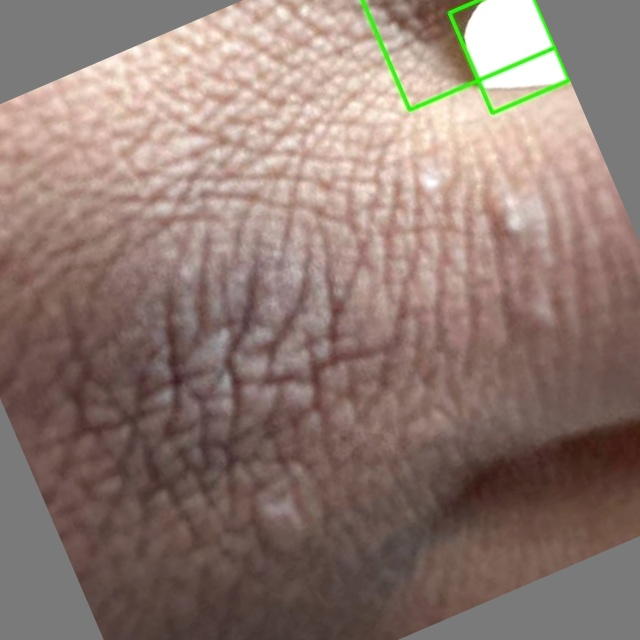Contact Dermatitis: (449, 0, 569, 113)
